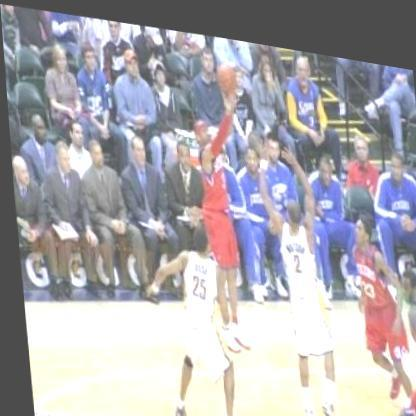basketball: (212, 52, 239, 85)
